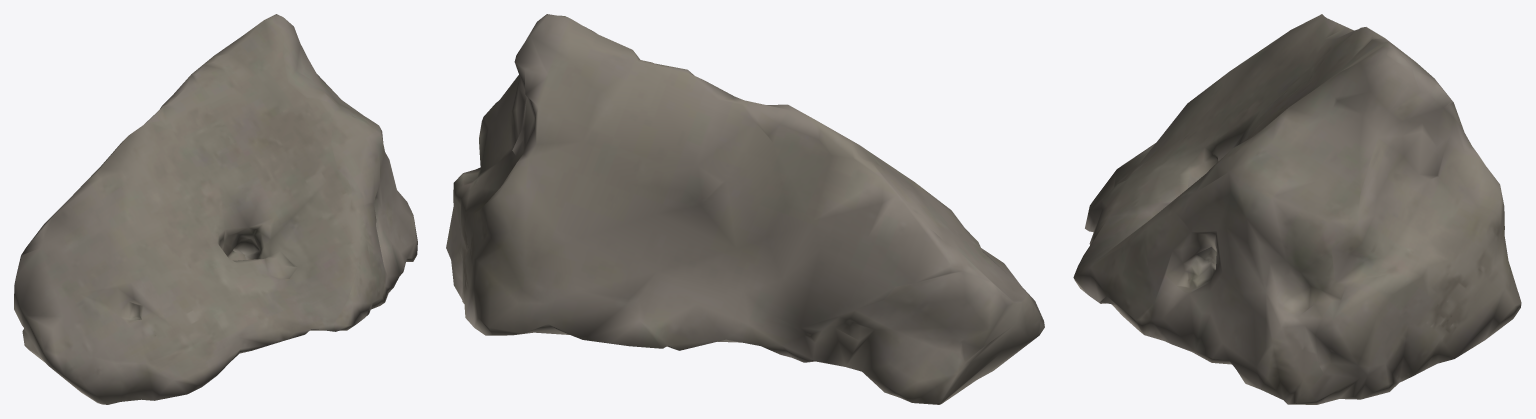
The model's file is moon_rock_07.glb.
The picture shows the model from 3 angles, left to right: view 1: azimuth 30°, elevation 25°; view 2: azimuth 150°, elevation 25°; view 3: azimuth 270°, elevation 25°; orthographic projection. The views are drawn at different scales.
Visible parts, largest first — view 1: moon_rock_07_LOD0; view 2: moon_rock_07_LOD0; view 3: moon_rock_07_LOD0.
Boxes of the visible parts, x1,y1,x2,y2 form: moon_rock_07_LOD0: (14,14,417,404); moon_rock_07_LOD0: (446,14,1044,404); moon_rock_07_LOD0: (1073,14,1521,404).
Size of the model in its own units: 0.0966 by 0.0603 by 0.0738.
1 material, 1 textured.
